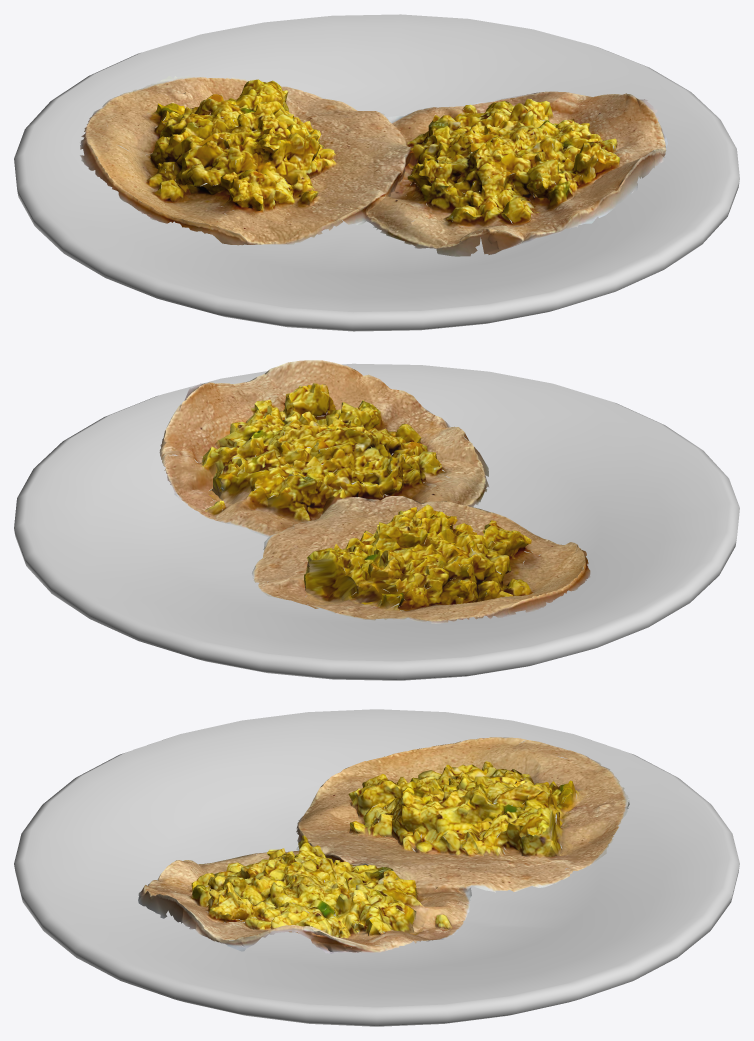
File: TofuTaco.glb
3 renders of one model, top to bottom at view 1: azimuth 30°, elevation 25°; view 2: azimuth 150°, elevation 25°; view 3: azimuth 270°, elevation 25°, orthographic.
Visible parts, largest first — view 1: Plate:PIV, TacosDeTofu; view 2: Plate:PIV, TacosDeTofu; view 3: Plate:PIV, TacosDeTofu.
Part boxes in pixels (x1,y1,x2,y2): Plate:PIV: [14, 14, 739, 331]; TacosDeTofu: [80, 76, 667, 256]; Plate:PIV: [14, 363, 739, 680]; TacosDeTofu: [159, 360, 590, 623]; Plate:PIV: [14, 709, 739, 1026]; TacosDeTofu: [138, 737, 629, 953].
Bounding box in the file's own units: 112 × 14.73 × 112.
2 materials, 1 textured.
